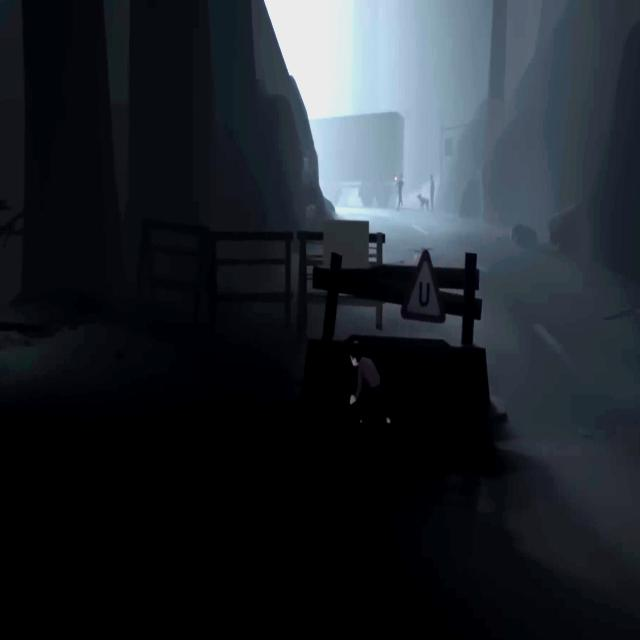boy: (349, 341, 392, 429)
dog: (416, 193, 429, 210)
human: (396, 173, 404, 211), (430, 174, 435, 211)
